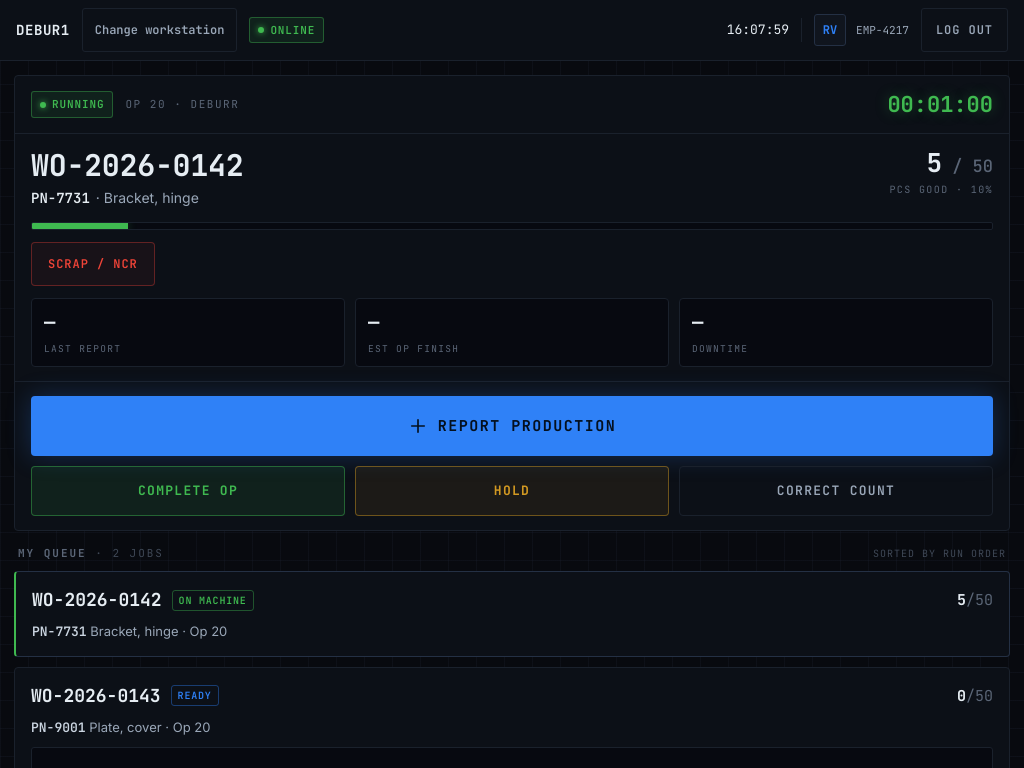
Test: OperatorKiosk — Foundry flows › complete modal — chained next-job start (decision 6) › announces the chain on the CTA and clocks in to the next queue item after a successful complete
Click the button "Complete op": {"x": 188, "y": 491} [31,466,345,516]
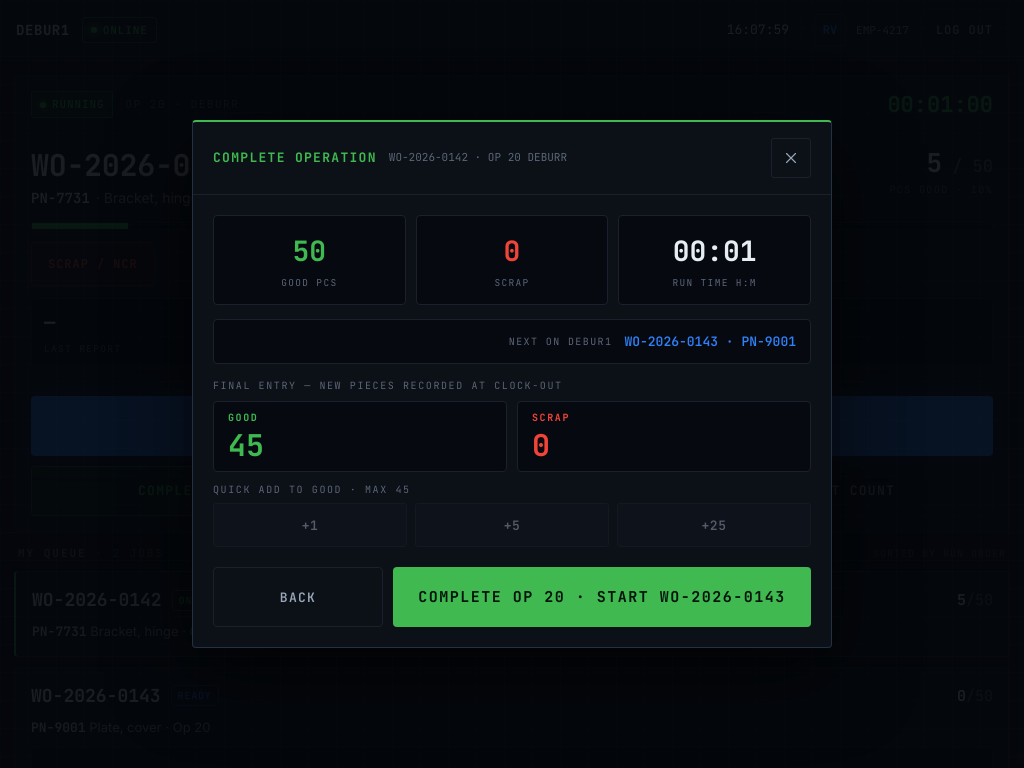
Expected: the button with test id "kiosk-qty-confirm" reads "Complete Op 20 · Start WO-2026-0143"
Click the button with test id "kiosk-qty-confirm": {"x": 602, "y": 597} [393,567,811,627]
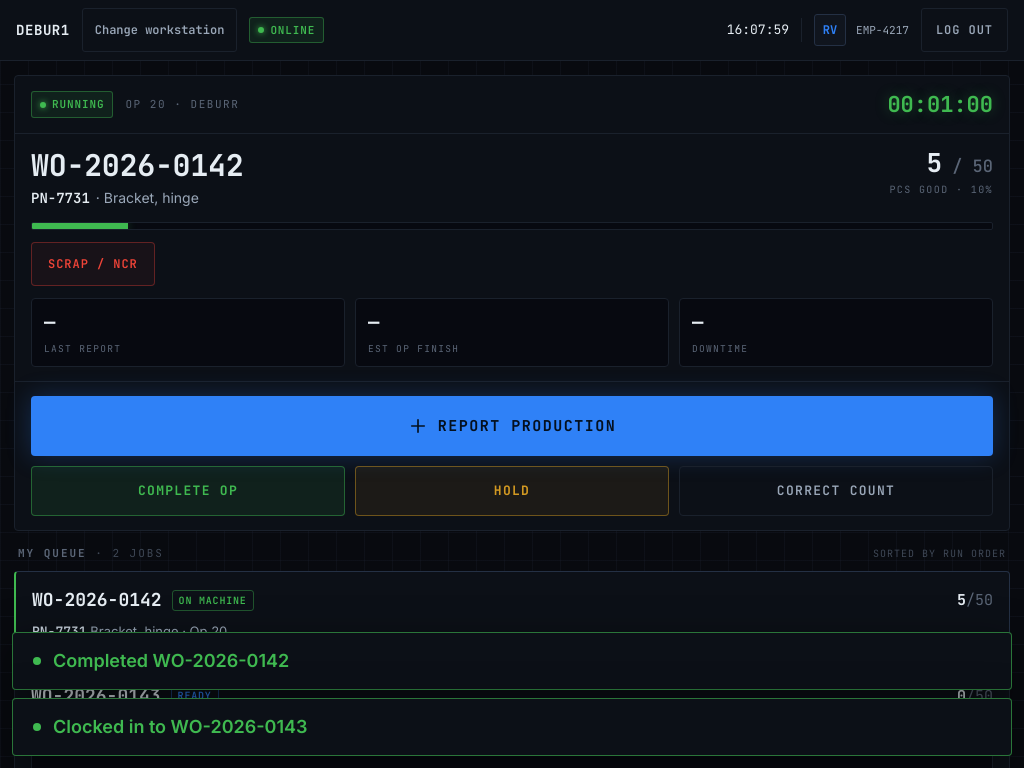
Expected: the text "Clocked in to WO-2026-0143" is shown, [53,713,308,741]
